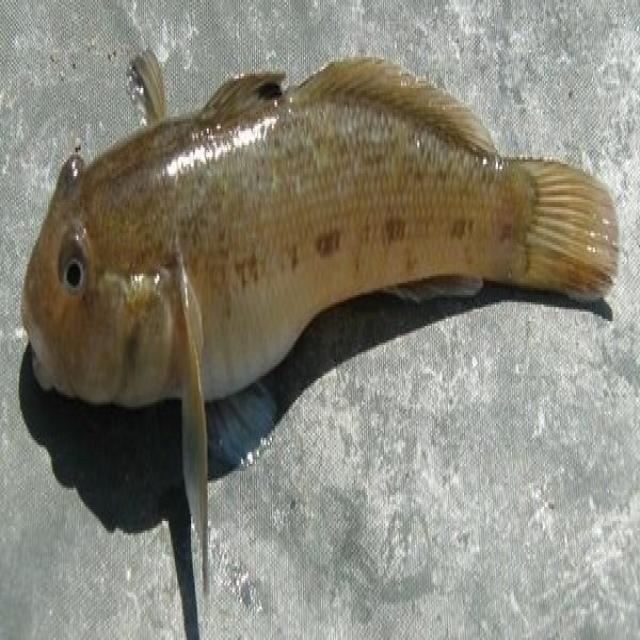Goby: (8, 21, 610, 576)
